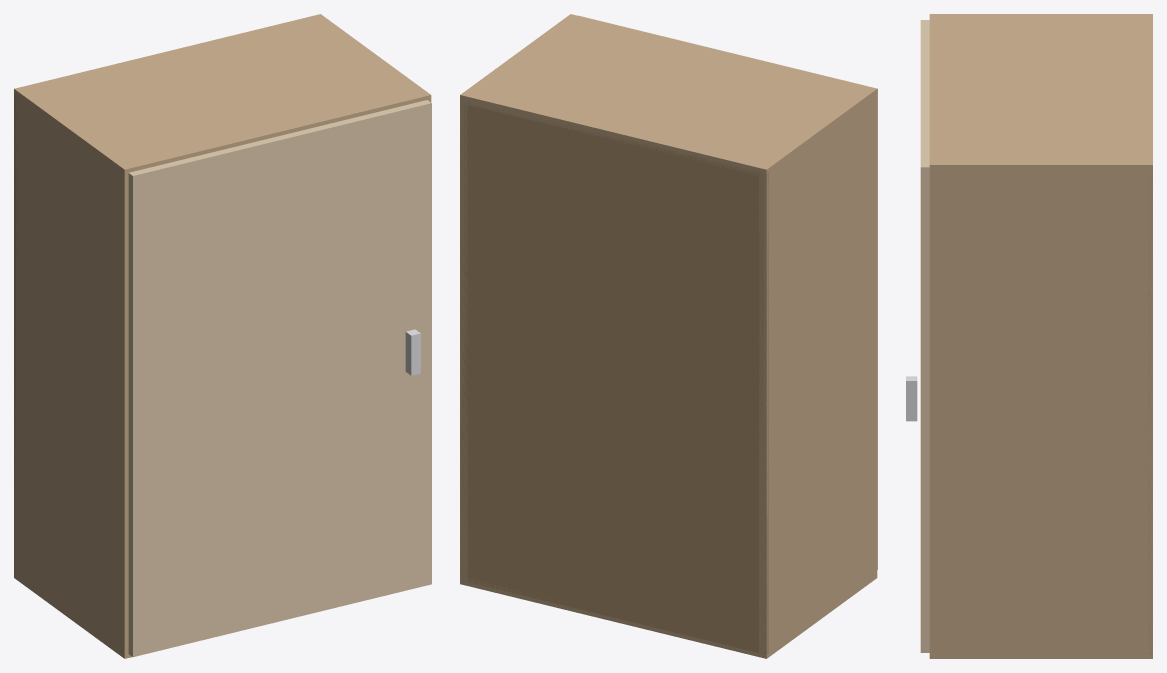
Rendered from demo-interaktif.glb.
3 views of the same model, side by side, from view 1: azimuth 30°, elevation 25°; view 2: azimuth 150°, elevation 25°; view 3: azimuth 270°, elevation 25° (orthographic).
Visible parts, largest first — view 1: Pintu_Panel, SampingKiri, Atas, Backing, Alas, Knob; view 2: Backing, SampingKiri, Atas, SampingKanan, Alas, Pintu_Panel; view 3: SampingKanan, Atas, Pintu_Panel, Alas, Backing, Knob.
Part boxes in pixels (x1=…): Pintu_Panel: x1=128, y1=100, x2=431, y2=657; SampingKiri: x1=14, y1=94, x2=128, y2=654; Atas: x1=14, y1=14, x2=431, y2=177; Backing: x1=14, y1=93, x2=16, y2=574; Alas: x1=14, y1=571, x2=131, y2=658; Knob: x1=405, y1=329, x2=420, y2=375; Backing: x1=460, y1=102, x2=768, y2=654; SampingKiri: x1=759, y1=93, x2=877, y2=654; Atas: x1=460, y1=14, x2=877, y2=175; SampingKanan: x1=460, y1=99, x2=467, y2=581; Alas: x1=460, y1=573, x2=877, y2=658; Pintu_Panel: x1=579, y1=15, x2=877, y2=569; SampingKanan: x1=929, y1=169, x2=1152, y2=654; Atas: x1=929, y1=14, x2=1152, y2=172; Pintu_Panel: x1=920, y1=20, x2=929, y2=652; Alas: x1=929, y1=653, x2=1152, y2=658; Backing: x1=1148, y1=170, x2=1152, y2=654; Knob: x1=906, y1=376, x2=917, y2=421.
Bounding box in the file's own units: 0.8 × 1.22 × 0.5525.
